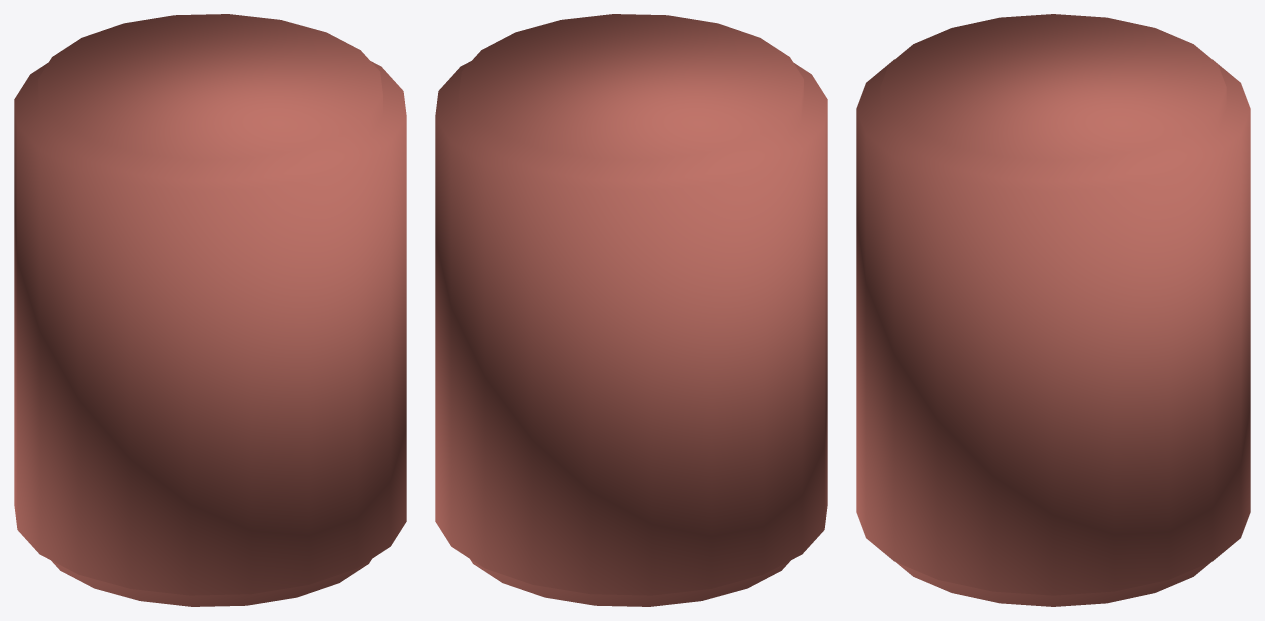
File: canister_small.glb
3 views of the same model, side by side, from view 1: azimuth 30°, elevation 25°; view 2: azimuth 150°, elevation 25°; view 3: azimuth 270°, elevation 25° (orthographic).
Parts seen in each view (by area): view 1: canister_small; view 2: canister_small; view 3: canister_small.
Boxes of the visible parts, box(x1,y1,x2,y2) form: canister_small: box(14, 14, 406, 606); canister_small: box(435, 14, 827, 606); canister_small: box(856, 14, 1250, 606).
Bounding box in the file's own units: 0.8 × 1 × 0.8.
